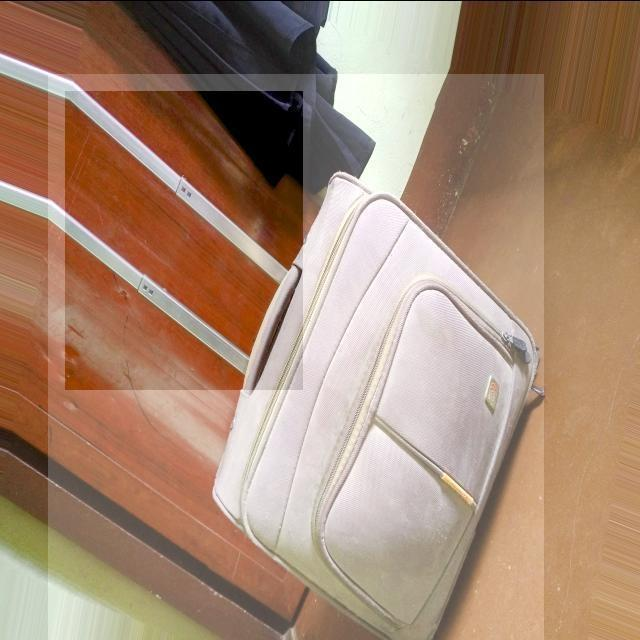Suitcase: (52, 74, 539, 640)
